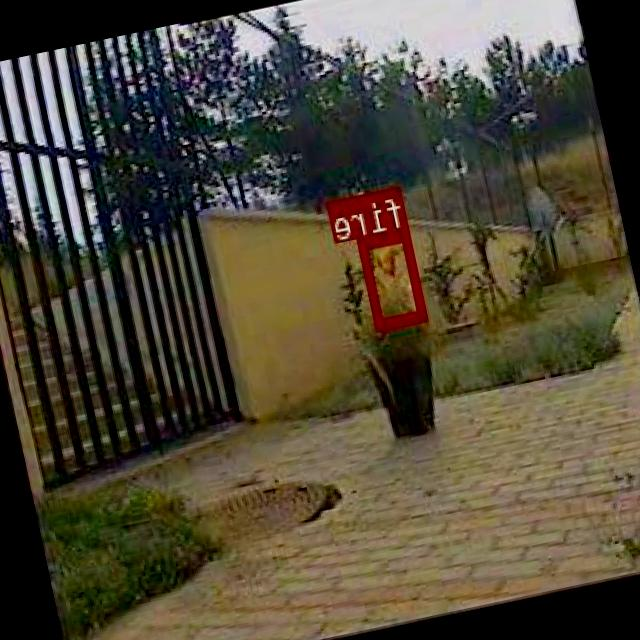fire: (358, 225, 430, 328)
